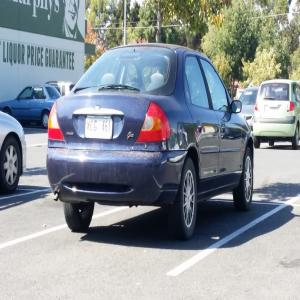Vehicle-registration-plate: (82, 115, 111, 139)
